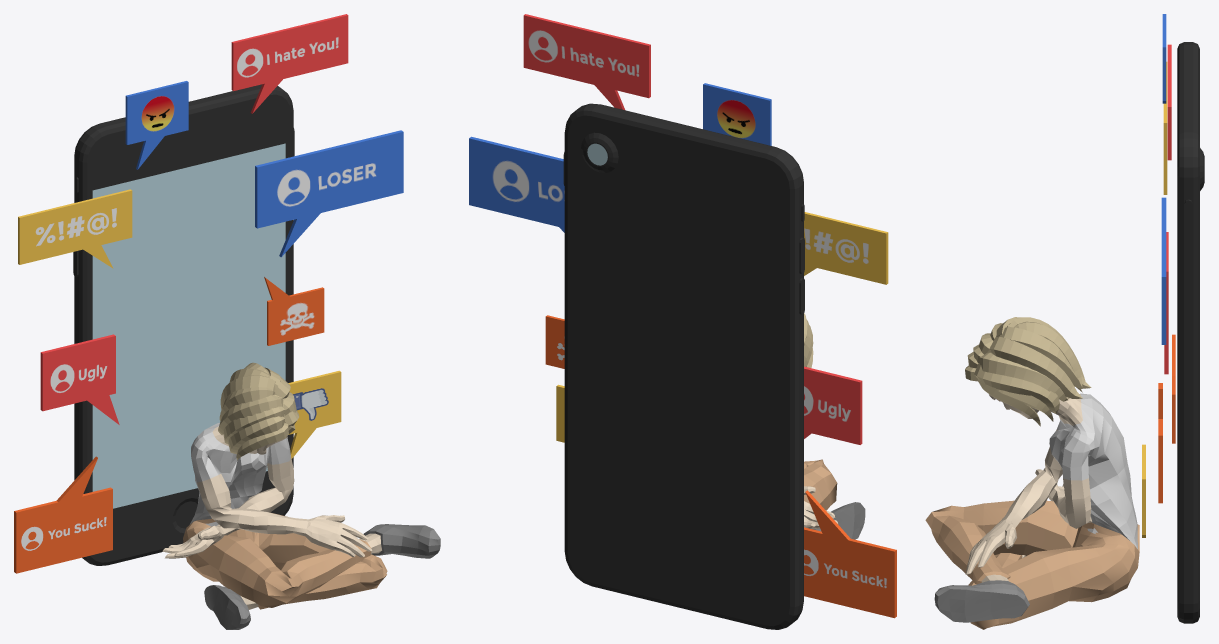
The model's file is CyberBullying 02.fbx.
3 views of the same model, side by side, from view 1: azimuth 30°, elevation 25°; view 2: azimuth 150°, elevation 25°; view 3: azimuth 270°, elevation 25° (orthographic). The views are drawn at different scales.
Visible parts, largest first — view 1: polySurface50; view 2: polySurface50; view 3: polySurface50.
Boxes of the visible parts, box(x1,y1,x2,y2) form: polySurface50: box(14, 14, 440, 629); polySurface50: box(469, 14, 896, 629); polySurface50: box(925, 14, 1204, 629).
Size of the model in its own units: 17.09 by 21.14 by 9.56.
9 materials, 2 textured.
